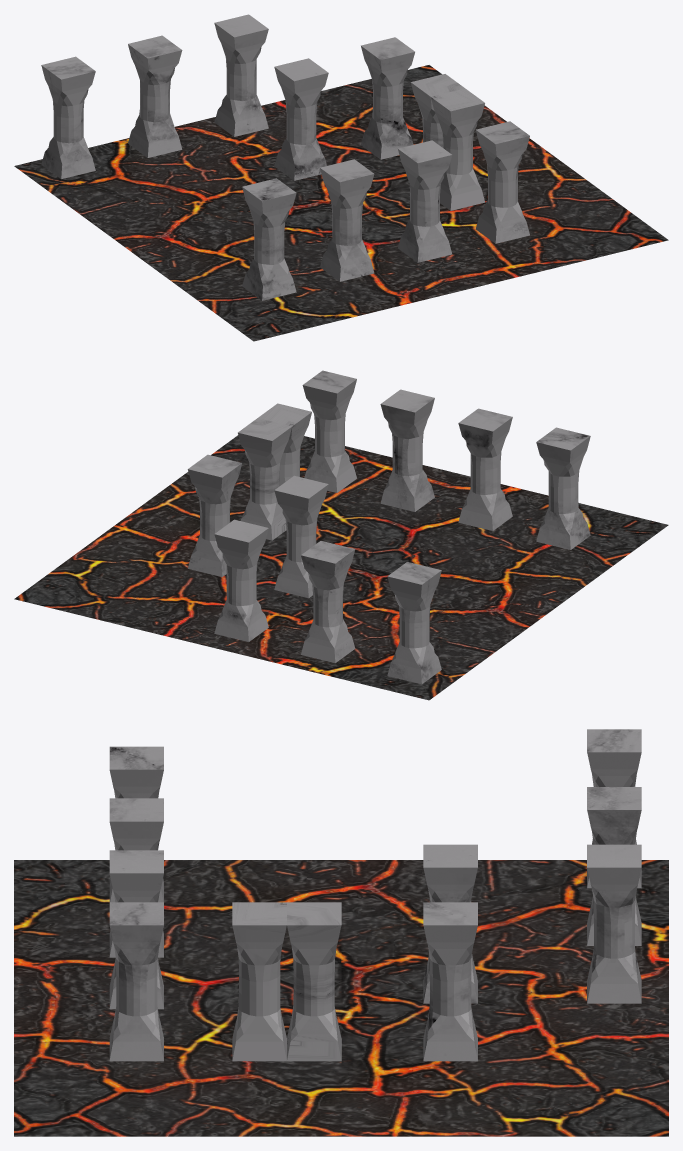
The model's file is level_1.glb.
The picture shows the model from 3 angles, top to bottom: view 1: azimuth 30°, elevation 25°; view 2: azimuth 150°, elevation 25°; view 3: azimuth 270°, elevation 25°; orthographic projection. The views are drawn at different scales.
Visible parts, largest first — view 1: Plane, columns.008, columns.005, columns.003, columns.009, columns.006, columns.002, columns.007, columns.004, columns.010, columns.001; view 2: Plane, columns.008, columns.004, columns.005, columns.009, columns.002, columns.003, columns.006, columns.007, columns.010, columns.001; view 3: Plane, columns.008, columns.001, columns.007, columns.009, columns.010, columns.006, columns.004, columns.005, columns.002, columns.003.
Boxes of the visible parts, <box> form: Plane: <box>14,65,668,341</box>; columns.008: <box>410,74,484,210</box>; columns.005: <box>41,56,95,179</box>; columns.003: <box>242,178,296,300</box>; columns.009: <box>214,14,268,136</box>; columns.006: <box>128,35,182,157</box>; columns.002: <box>320,159,374,281</box>; columns.007: <box>476,121,529,243</box>; columns.004: <box>398,140,452,262</box>; columns.010: <box>274,58,328,180</box>; columns.001: <box>361,37,414,159</box>; Plane: <box>14,435,668,700</box>; columns.008: <box>238,403,311,540</box>; columns.004: <box>380,389,434,511</box>; columns.005: <box>387,562,441,684</box>; columns.009: <box>214,519,268,641</box>; columns.002: <box>458,408,512,530</box>; columns.003: <box>536,427,590,549</box>; columns.006: <box>301,541,355,663</box>; columns.007: <box>302,370,356,492</box>; columns.010: <box>274,475,328,598</box>; columns.001: <box>187,454,242,576</box>; Plane: <box>14,860,668,1136</box>; columns.008: <box>232,902,341,1061</box>; columns.001: <box>423,902,477,1061</box>; columns.007: <box>109,902,163,1061</box>; columns.009: <box>587,844,641,1003</box>; columns.010: <box>423,844,477,1003</box>; columns.006: <box>587,787,641,945</box>; columns.004: <box>109,850,163,1009</box>; columns.005: <box>587,729,641,888</box>; columns.002: <box>109,798,163,957</box>; columns.003: <box>109,746,163,902</box>.
Size of the model in its own units: 36 by 8.63 by 36.
2 materials, 2 textured.
